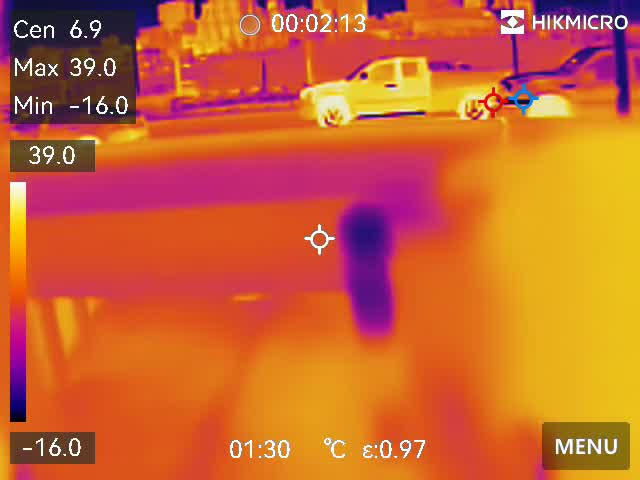largeCar: (489, 41, 640, 114)
lightTruck: (295, 53, 510, 120)
smallCar: (15, 99, 156, 148)
